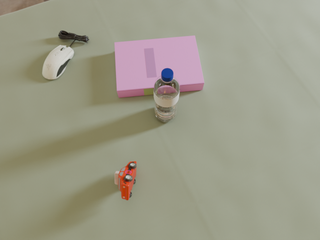book: (115, 36, 204, 98)
bottle: (153, 68, 180, 122)
mouse: (42, 45, 74, 79)
toy_car: (115, 161, 136, 200)
